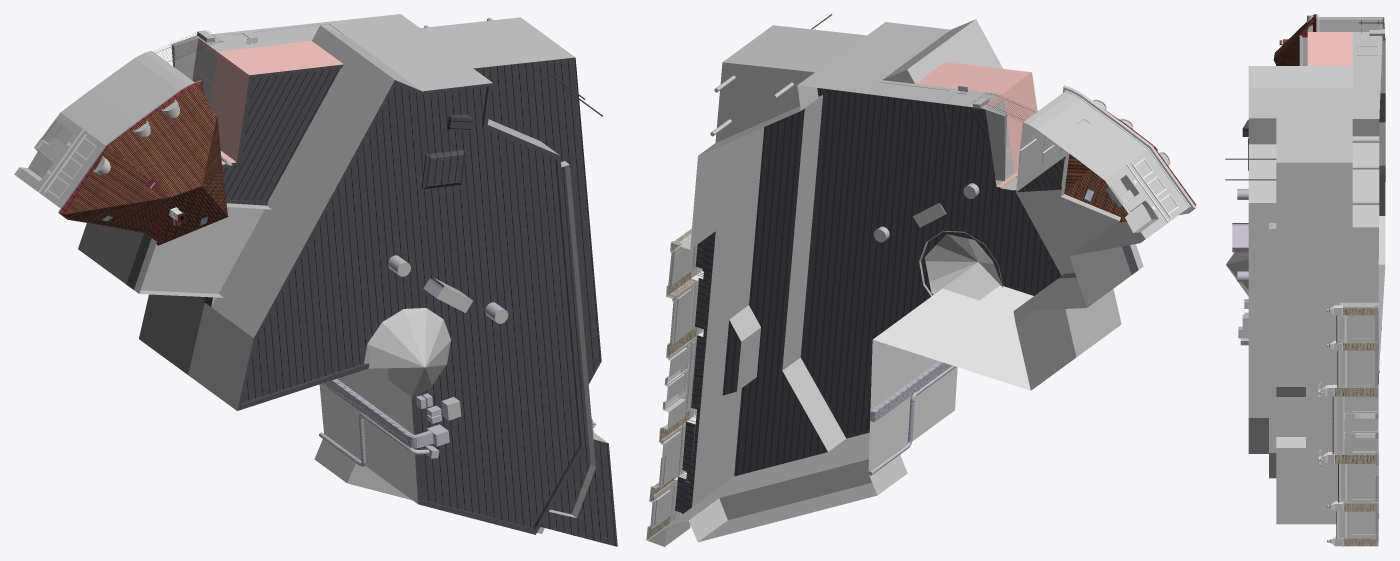
The model's file is Vana_Viru_10.obj.
3 views of the same model, side by side, from view 1: azimuth 30°, elevation 25°; view 2: azimuth 150°, elevation 25°; view 3: azimuth 270°, elevation 25° (orthographic). The views are drawn at different scales.
Visible parts, largest first — view 1: Vana_Viru_10; view 2: Vana_Viru_10; view 3: Vana_Viru_10.
Boxes of the visible parts, x1,y1,x2,y2 form: Vana_Viru_10: (14,14,617,546); Vana_Viru_10: (646,14,1196,546); Vana_Viru_10: (1225,14,1385,546).
Bounding box in the file's own units: 52.78 × 51.69 × 19.04.
